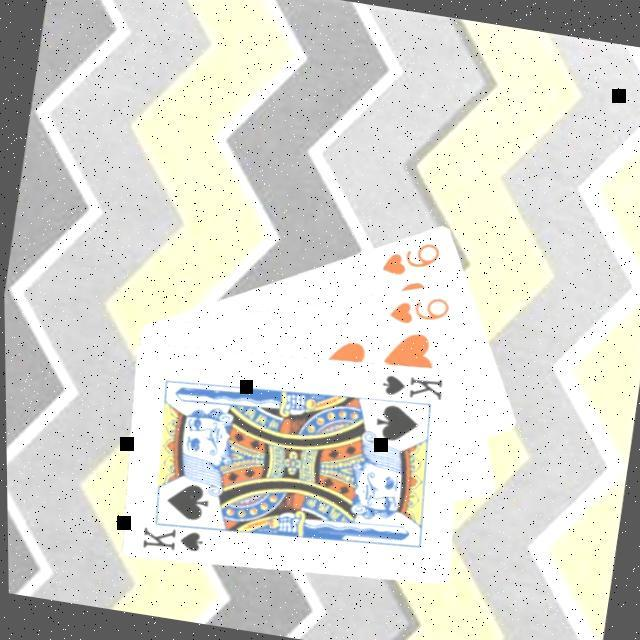9H: (378, 230, 448, 283), (385, 284, 457, 332)
KS: (138, 511, 216, 559), (377, 364, 449, 404)
